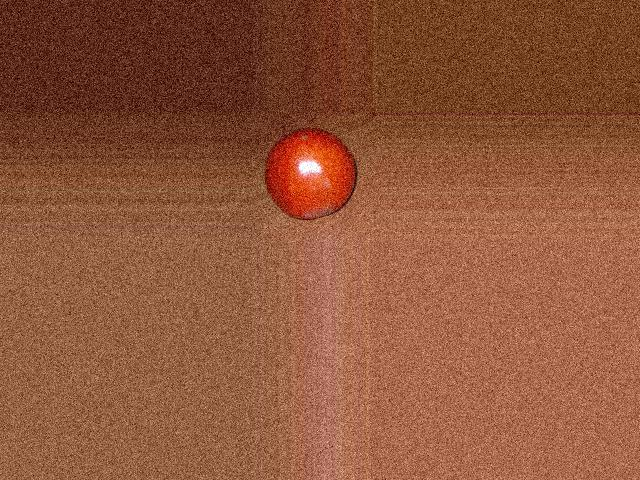tomato: (263, 127, 356, 219)
